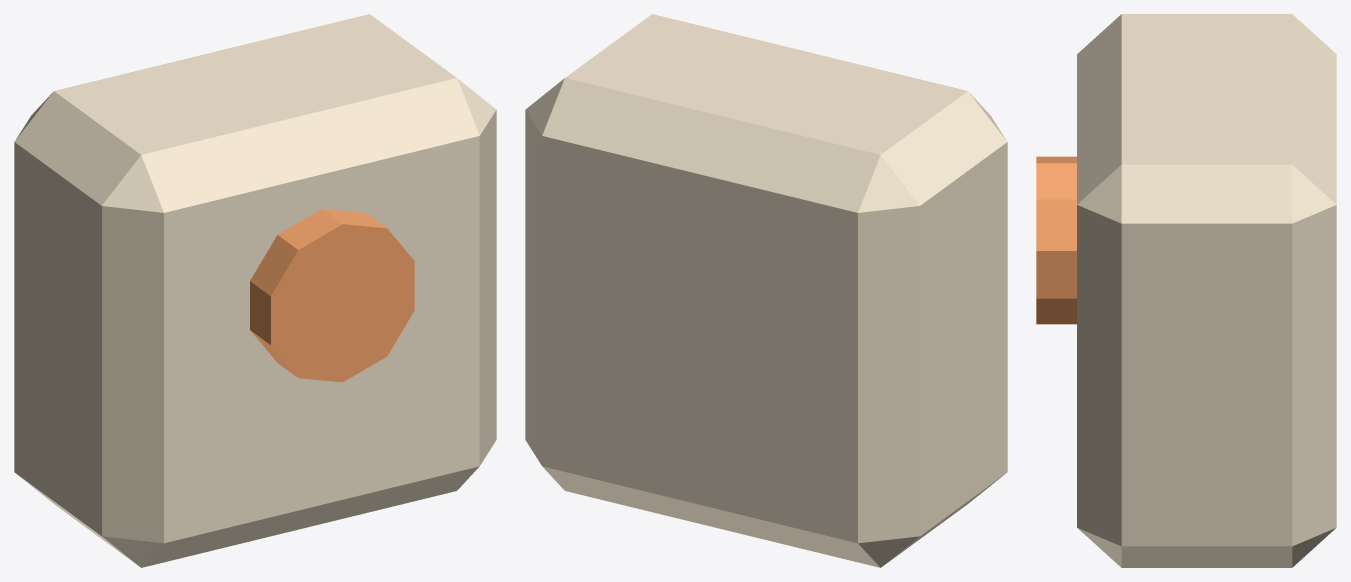
The picture shows the model from 3 angles, left to right: view 1: azimuth 30°, elevation 25°; view 2: azimuth 150°, elevation 25°; view 3: azimuth 270°, elevation 25°; orthographic projection. The views are drawn at different scales.
Parts seen in each view (by area): view 1: Wall-free call panel, Call button; view 2: Wall-free call panel; view 3: Wall-free call panel, Call button.
Part boxes in pixels (x1,y1,x2,y2): Wall-free call panel: (14, 14, 496, 567); Call button: (250, 209, 414, 382); Wall-free call panel: (525, 14, 1007, 567); Wall-free call panel: (1077, 14, 1336, 567); Call button: (1036, 156, 1076, 324).
Bounding box in the file's own units: 0.12 × 0.12 × 0.081.
1 material, 1 textured.
